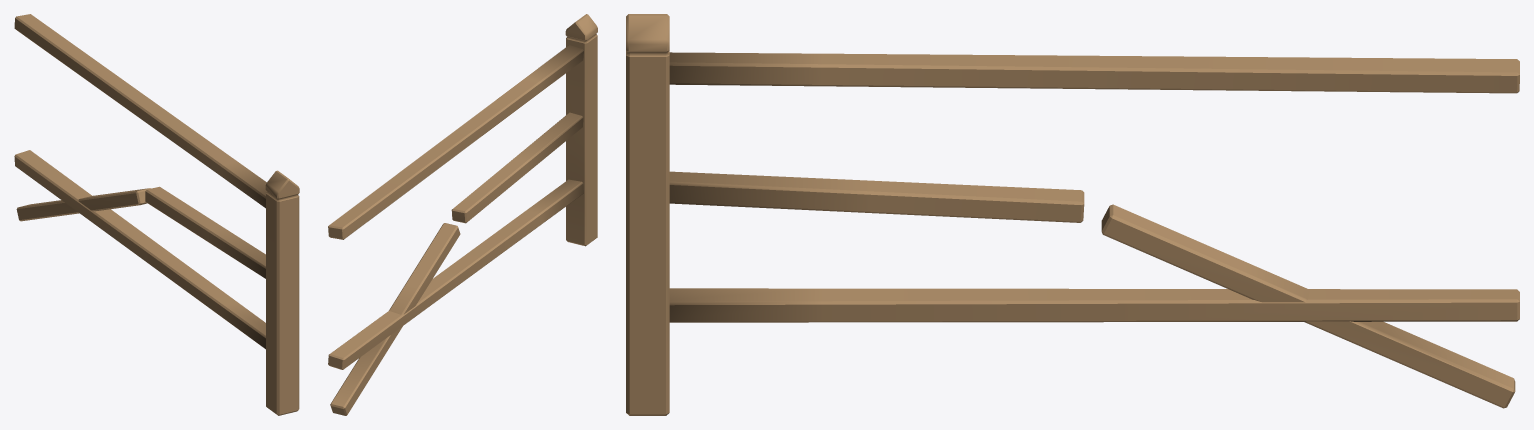
Rendered from fence_b.glb.
3 renders of one model, left to right at view 1: azimuth 30°, elevation 25°; view 2: azimuth 150°, elevation 25°; view 3: azimuth 270°, elevation 25°, orthographic. The views are drawn at different scales.
Parts seen in each view (by area): view 1: PART; view 2: PART; view 3: PART.
Part boxes in pixels (x1,y1,x2,y2): PART: (14, 14, 299, 415); PART: (328, 14, 597, 415); PART: (626, 14, 1519, 415).
Bounding box in the file's own units: 0.1 × 0.9958 × 2.05.
